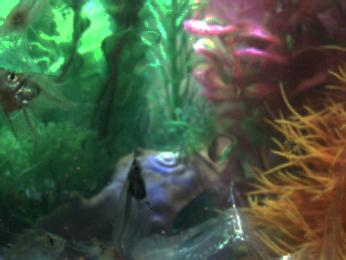X-ray fish: (5, 70, 94, 123), (1, 66, 45, 146), (4, 226, 66, 260)
glassfish: (112, 158, 150, 259)
